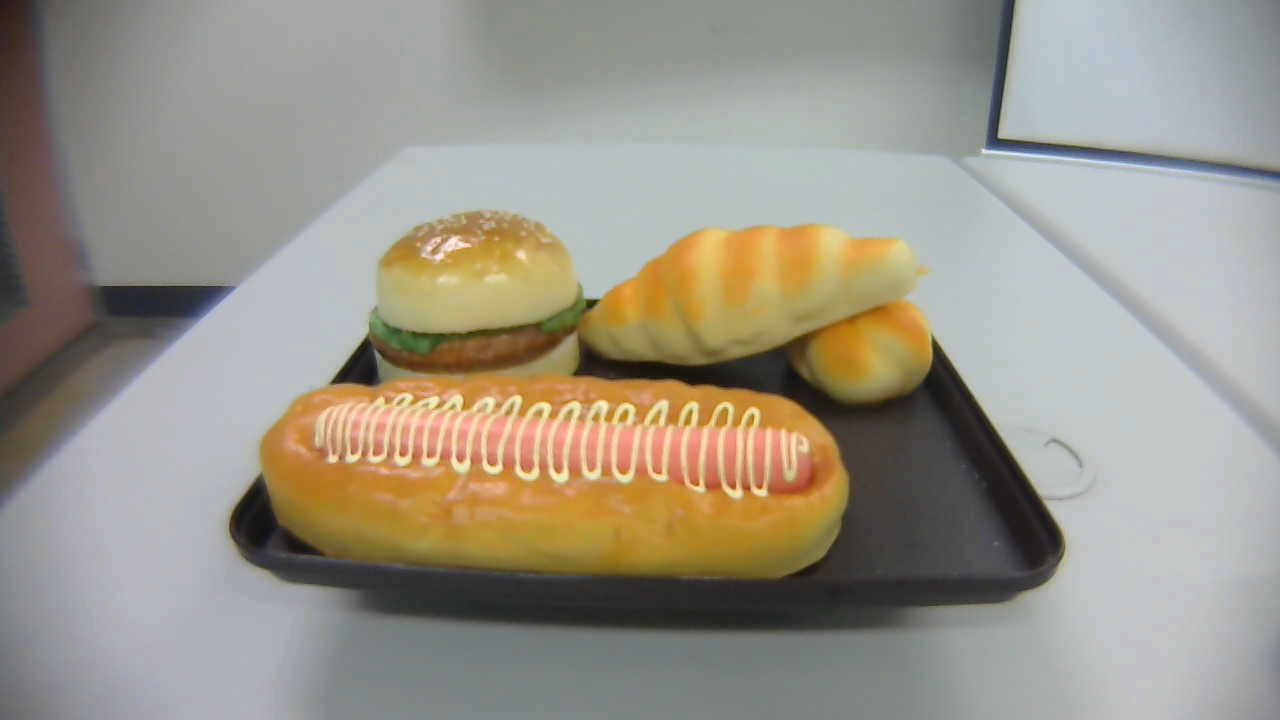croissant: (578, 222, 929, 368)
hamburger: (368, 208, 584, 398)
hot dog: (260, 370, 852, 578)
twist bread: (786, 277, 936, 405)
